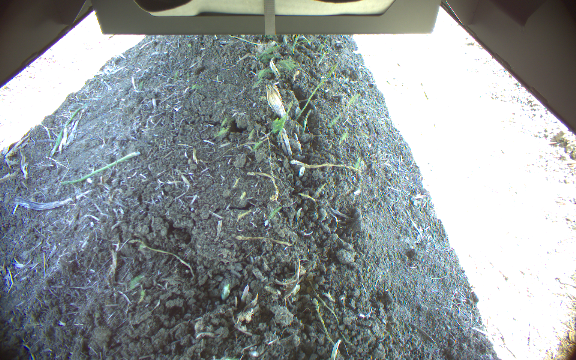aspa: (292, 63, 339, 124), (288, 34, 301, 51)
